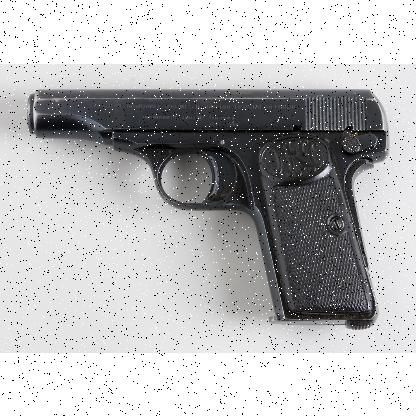gun: (26, 88, 390, 326)
